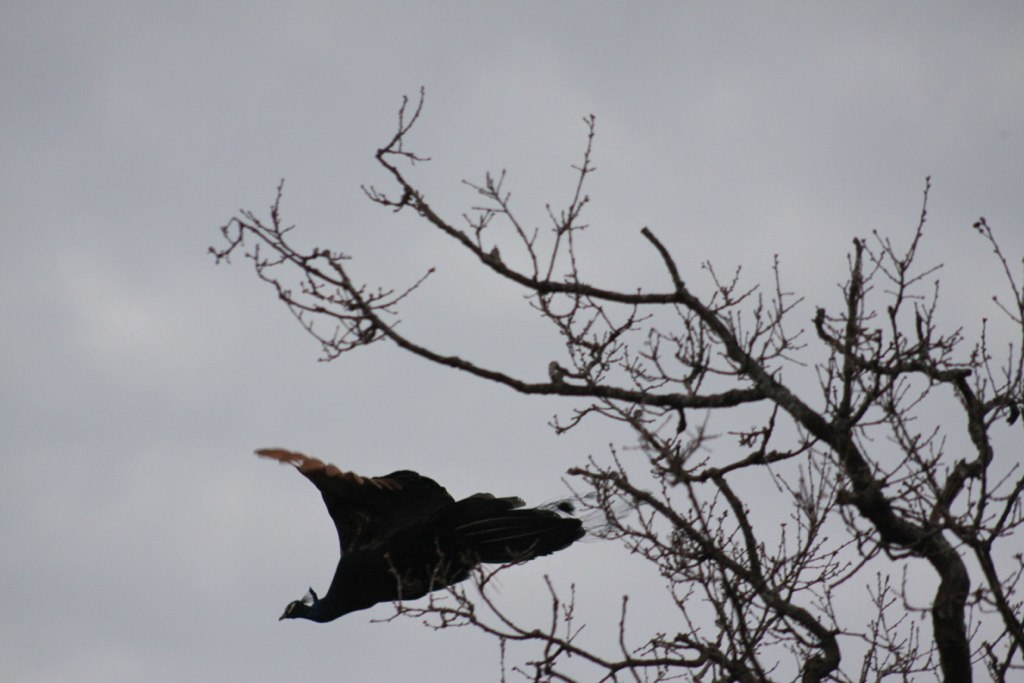Tree: (206, 0, 1023, 683)
